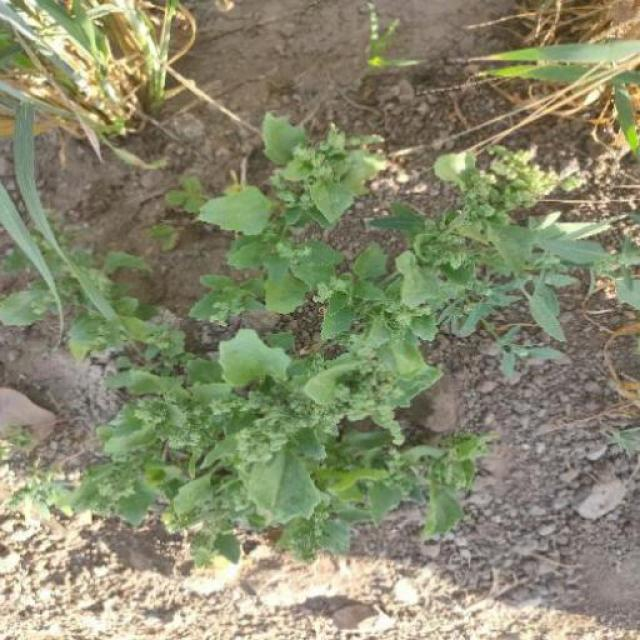weed: (96, 167, 579, 548)
